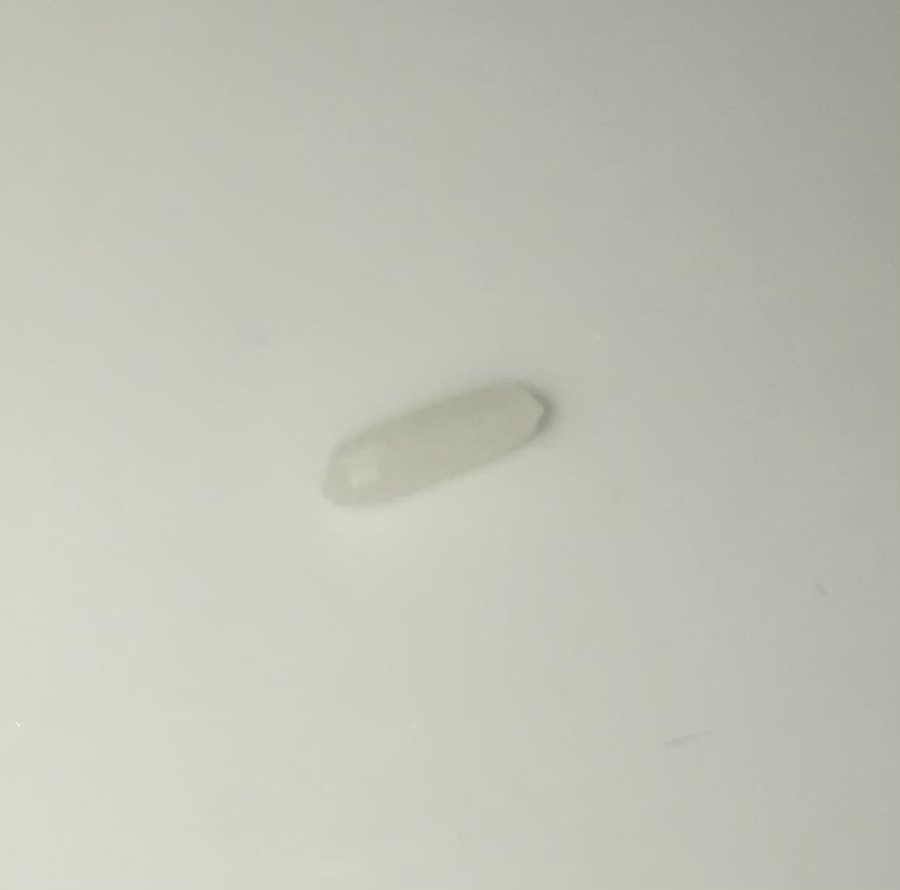Gao Thom Go Cong: (314, 383, 552, 517)
